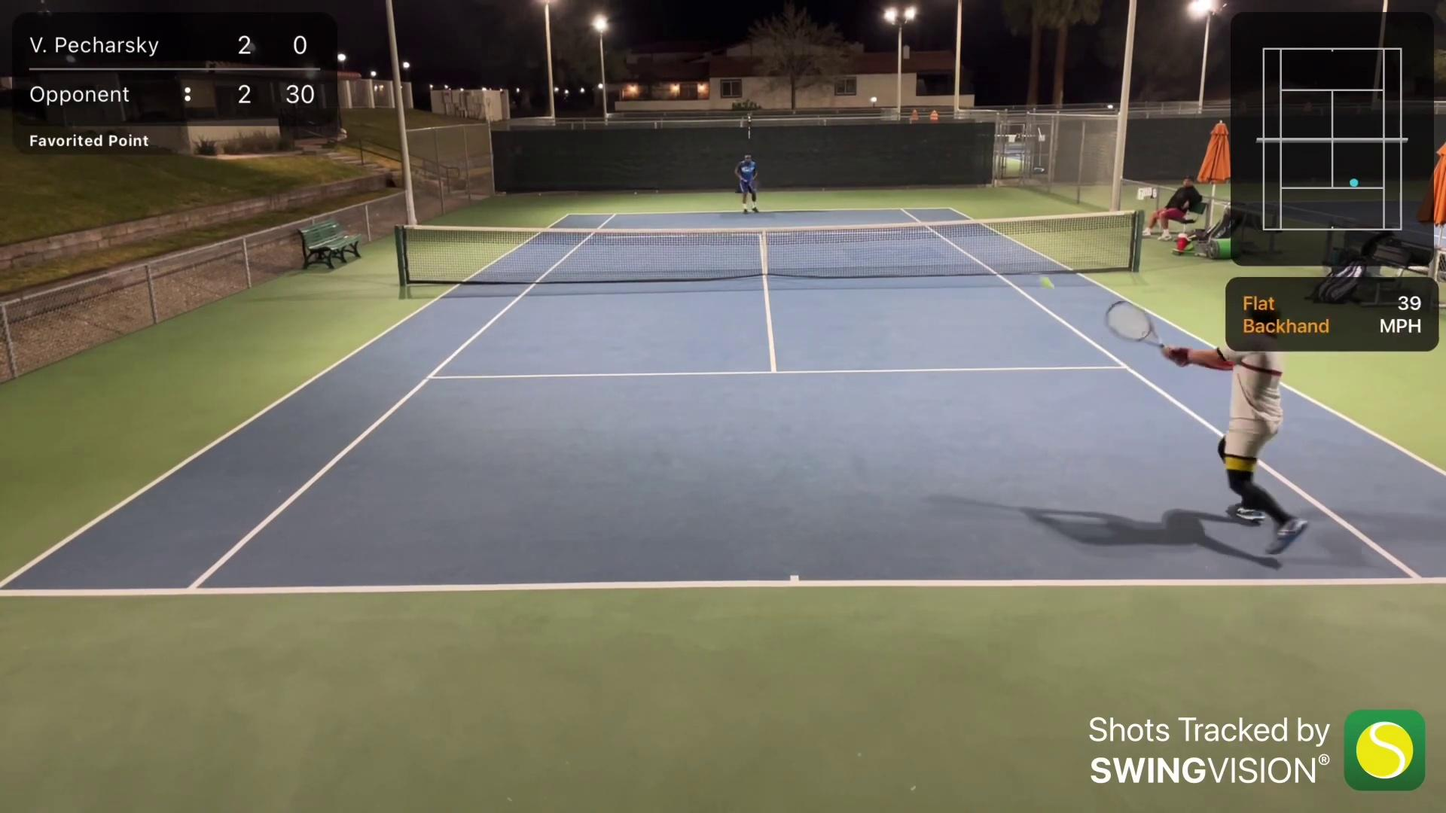ball: (1035, 273, 1056, 296)
